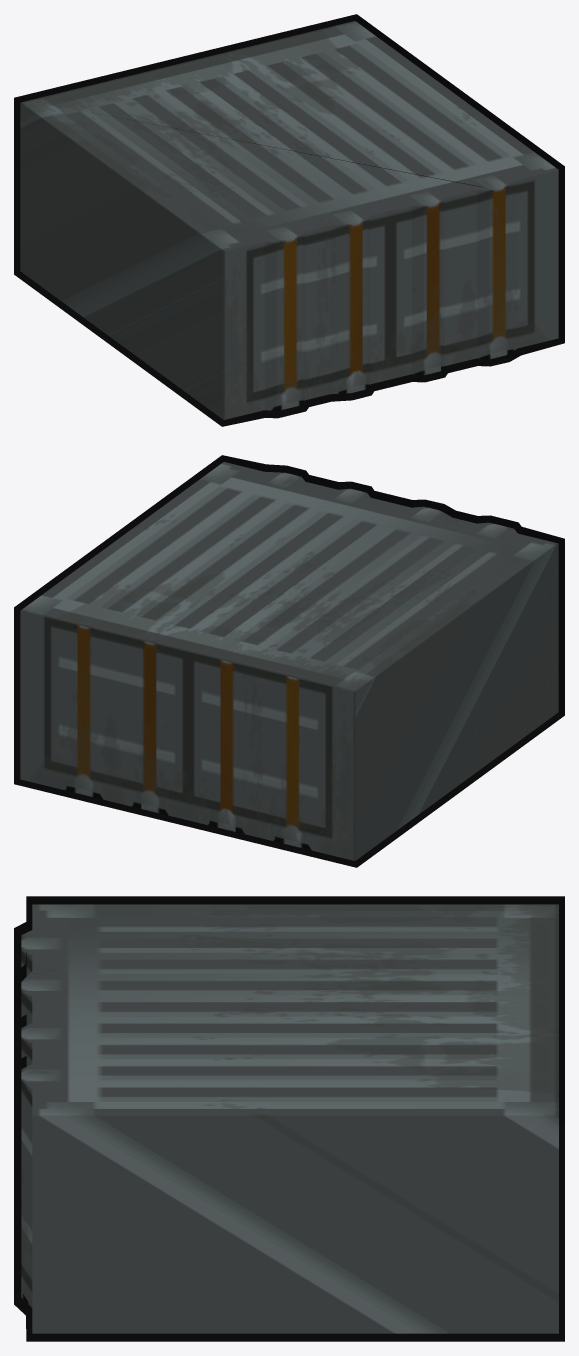
The model's file is Building_AncientSmallContainer_Things_Building_Ancient_Shipping_SmallAncientContainer_SmallAncientContainerE.glb.
3 views of the same model, one above another, from view 1: azimuth 30°, elevation 25°; view 2: azimuth 150°, elevation 25°; view 3: azimuth 270°, elevation 25° (orthographic). The views are drawn at different scales.
Parts seen in each view (by area): view 1: Body, Outline; view 2: Body, Outline; view 3: Body, Outline.
Part boxes in pixels (x1,y1,x2,y2): Body: [20, 21, 558, 419]; Outline: [14, 14, 564, 426]; Body: [20, 462, 558, 860]; Outline: [14, 455, 564, 867]; Body: [21, 904, 558, 1333]; Outline: [14, 896, 564, 1341].
Bounding box in the file's own units: 1.97 × 0.9864 × 2.12.
2 materials, 1 textured.
